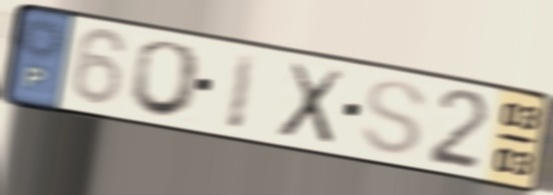2: (426, 86, 493, 175)
6: (66, 25, 135, 112)
I: (222, 49, 261, 134)
O: (124, 36, 207, 121)
S: (358, 76, 432, 158)
X: (273, 58, 349, 149)
